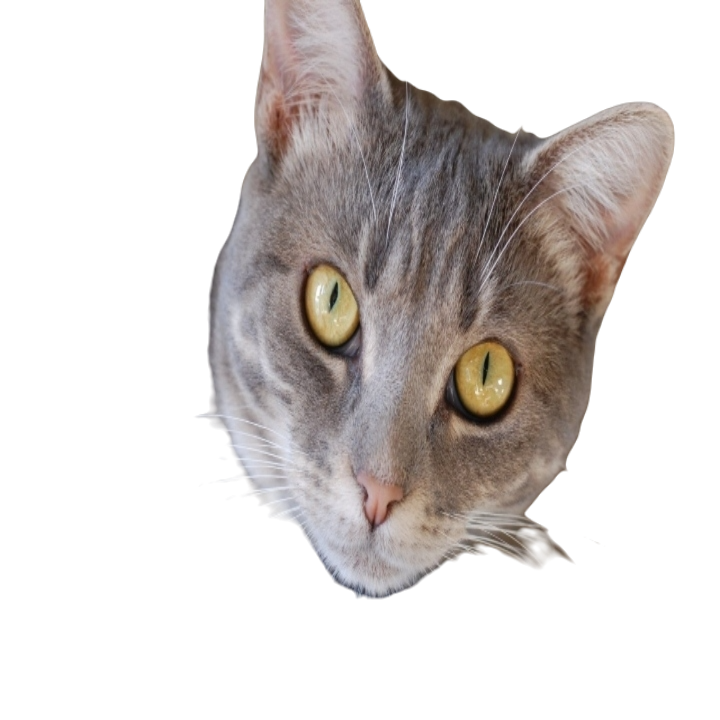Cat: (208, 2, 684, 598)
